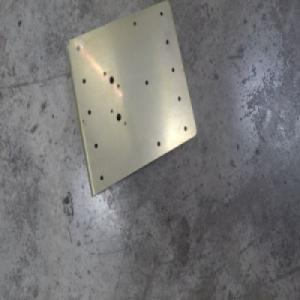MetalSheet: (63, 0, 198, 201)
